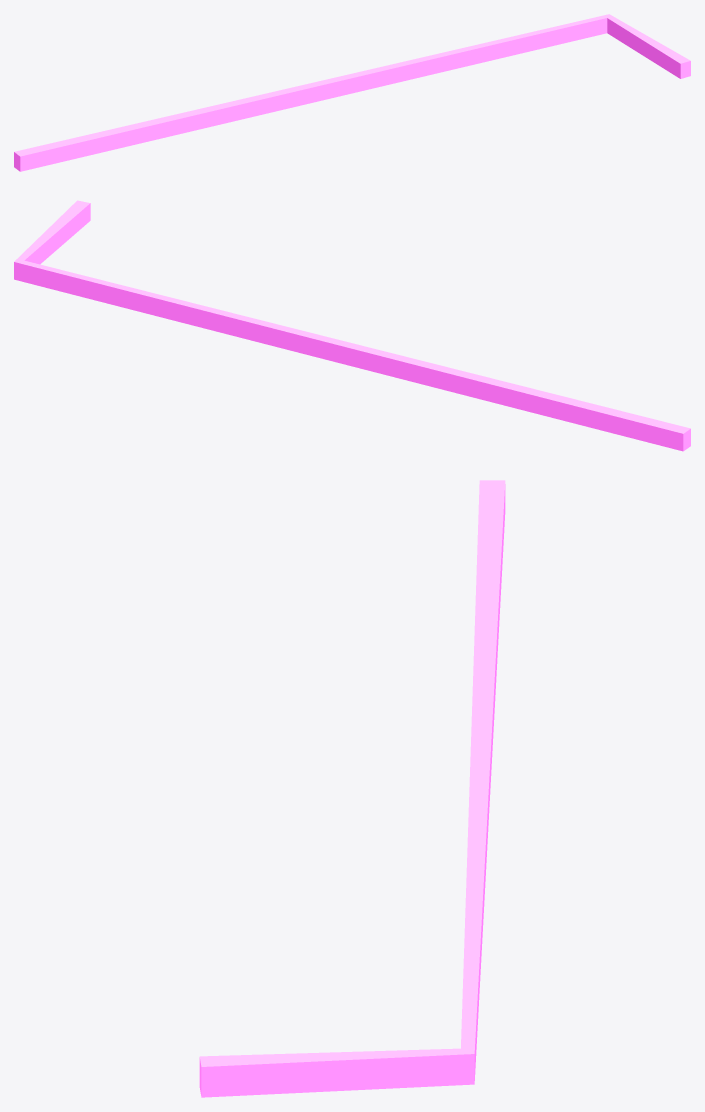
3 renders of one model, top to bottom at view 1: azimuth 30°, elevation 25°; view 2: azimuth 150°, elevation 25°; view 3: azimuth 270°, elevation 25°, orthographic. The views are drawn at different scales.
Visible parts, largest first — view 1: polySurface68; view 2: polySurface68; view 3: polySurface68.
Part boxes in pixels (<box>): polySurface68: <box>14,14,690,171</box>; polySurface68: <box>14,200,690,451</box>; polySurface68: <box>199,480,505,1097</box>.
Size of the model in its own units: 0.0759 by 0.00184 by 0.0167.
